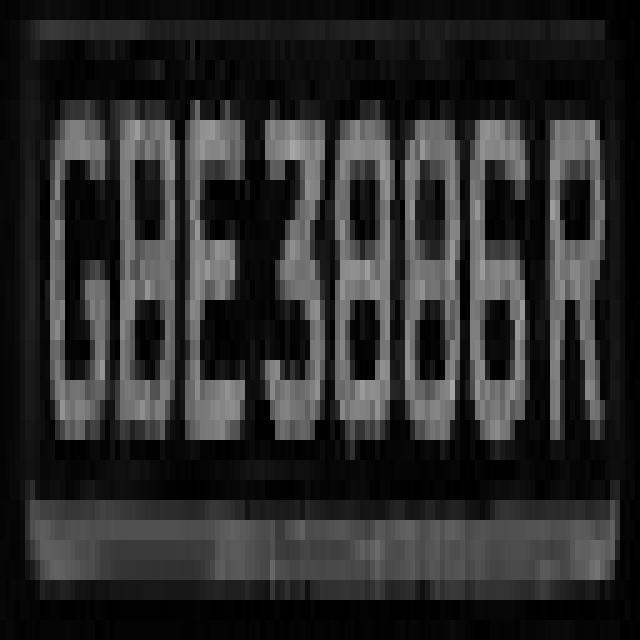3: (260, 60, 325, 460)
6: (465, 60, 535, 460)
8: (395, 80, 470, 480), (325, 80, 395, 440)
B: (115, 60, 175, 440)
E: (180, 100, 250, 460)
G: (40, 40, 110, 500)
R: (545, 80, 615, 520)
